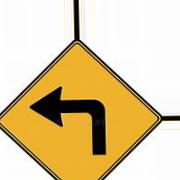left: (1, 39, 162, 180)
